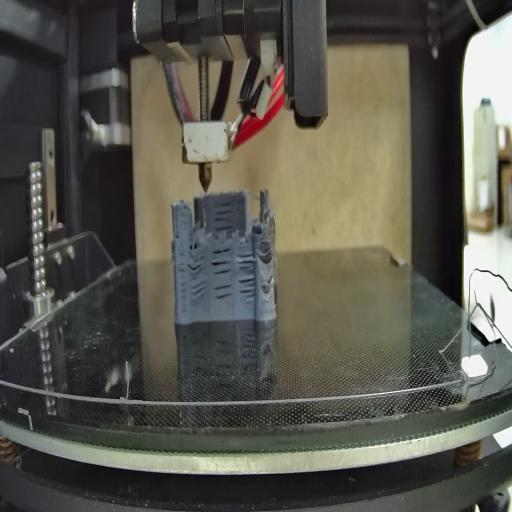cracks: (210, 200, 236, 233), (178, 253, 188, 316), (212, 248, 234, 274), (237, 276, 256, 304), (188, 252, 206, 275), (190, 282, 208, 304), (216, 282, 234, 304), (238, 250, 255, 272), (262, 244, 275, 259), (266, 269, 274, 289), (175, 228, 182, 243)
